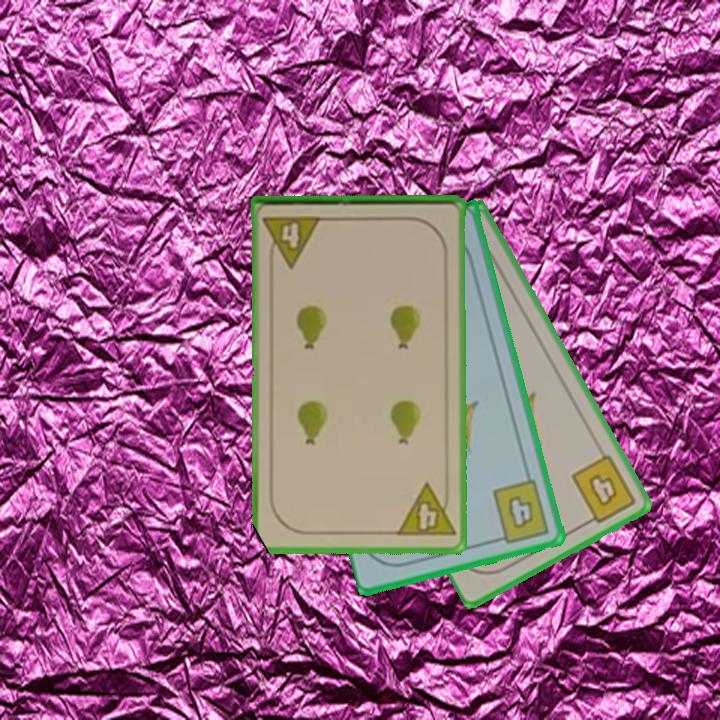4b: (568, 451, 640, 529), (489, 476, 553, 546)
4p: (393, 480, 458, 540), (260, 213, 325, 270)
